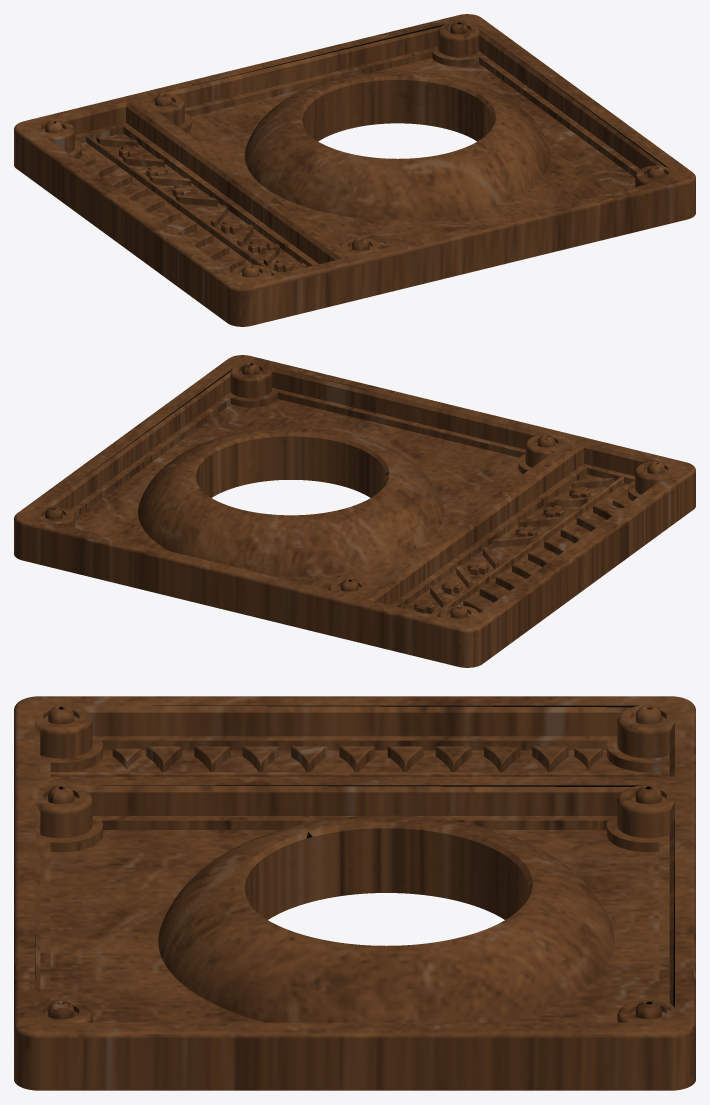
The picture shows the model from 3 angles, top to bottom: view 1: azimuth 30°, elevation 25°; view 2: azimuth 150°, elevation 25°; view 3: azimuth 270°, elevation 25°; orthographic projection. The views are drawn at different scales.
Parts seen in each view (by area): view 1: Outer Lock SNa 02-20; view 2: Outer Lock SNa 02-20; view 3: Outer Lock SNa 02-20.
Part boxes in pixels (bbox=[...]): Outer Lock SNa 02-20: bbox=[14, 14, 695, 326]; Outer Lock SNa 02-20: bbox=[14, 355, 695, 667]; Outer Lock SNa 02-20: bbox=[14, 696, 695, 1090].
Bounding box in the file's own units: 15300 × 1597 × 13000.
